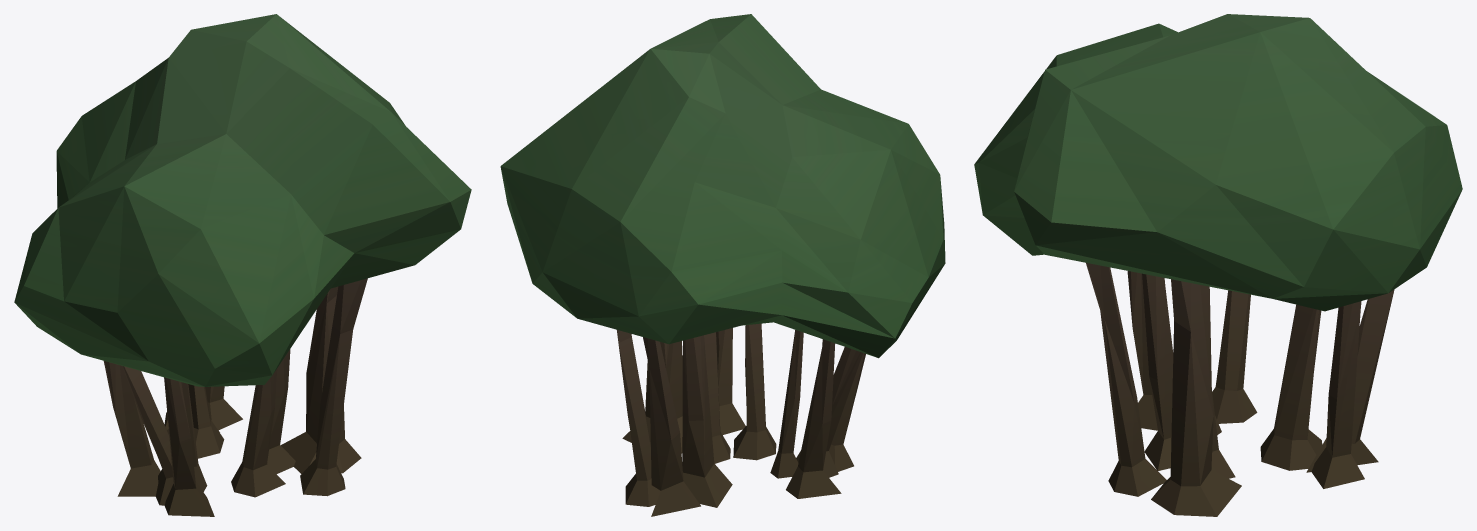
File: Tree08.FBX
3 views of the same model, side by side, from view 1: azimuth 30°, elevation 25°; view 2: azimuth 150°, elevation 25°; view 3: azimuth 270°, elevation 25° (orthographic). The views are drawn at different scales.
Parts seen in each view (by area): view 1: Tree_008; view 2: Tree_008; view 3: Tree_008.
Boxes of the visible parts, x1,y1,x2,y2 form: Tree_008: (14, 14, 471, 516); Tree_008: (500, 14, 945, 516); Tree_008: (974, 14, 1462, 516).
Bounding box in the file's own units: 2074 × 2182 × 2103.
